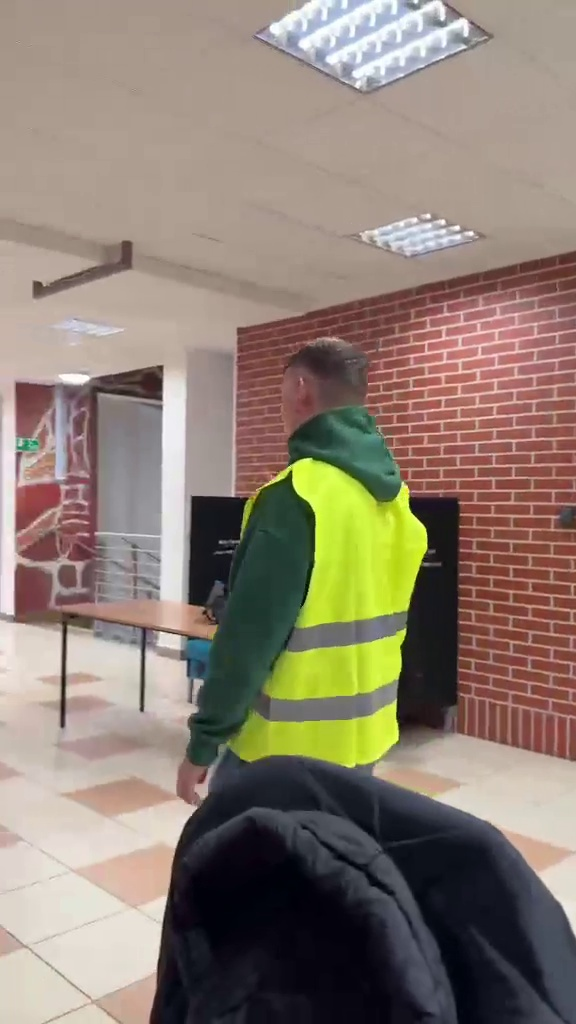vest: (186, 331, 423, 786)
